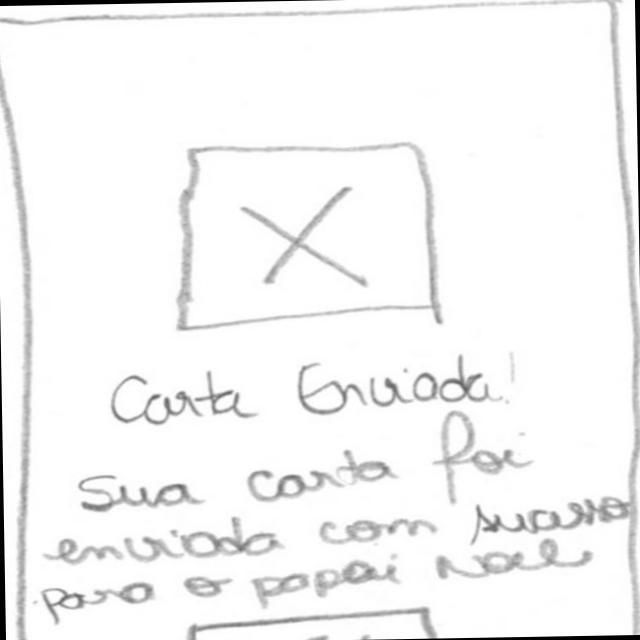button: (180, 606, 452, 640)
container: (1, 1, 640, 640)
image: (173, 139, 452, 335)
label: (88, 344, 529, 425)
textbox: (32, 414, 628, 623)
